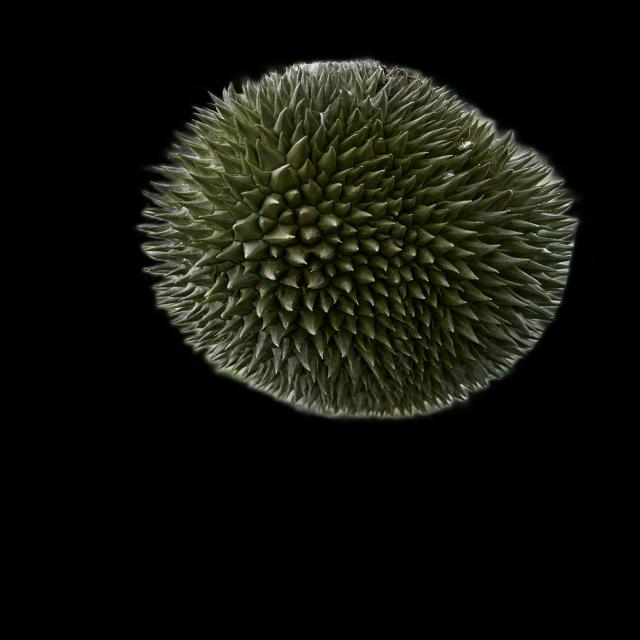immature: (134, 57, 588, 426)
